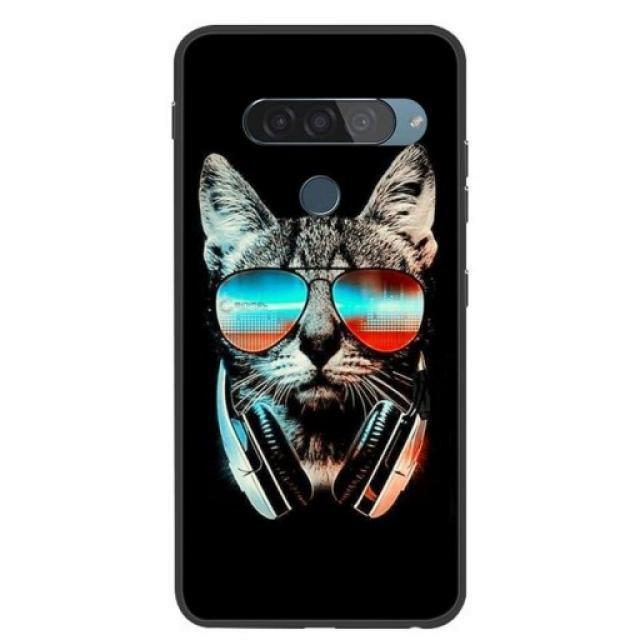lens_back: (341, 100, 382, 146), (298, 97, 334, 146), (256, 100, 295, 145)
phone: (166, 19, 470, 630)
